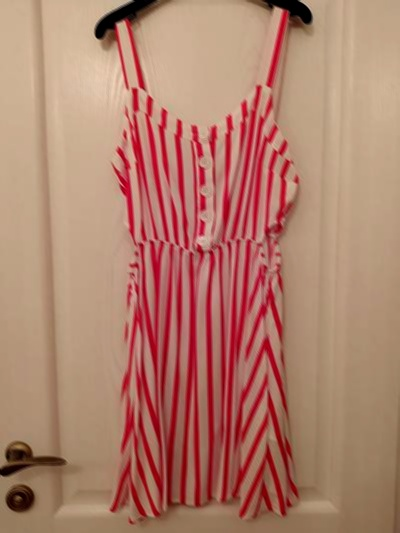Dress: (75, 21, 327, 527)
